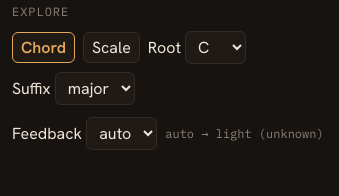
Test: CoachColumn — explore mode (existing ExplorePanel controls) › empty voicing list shows the no-voicings message instead of the pager (spec §8) — migrated from ExplorePanel.test
Select "A" in the dropdown with test id "explore-root": (216, 48) [185,31,246,64]
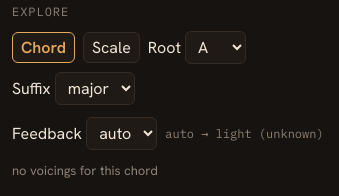
Check: the text with test id "explore-no-voicings" shows "no voicings", box [12,162,158,179]
